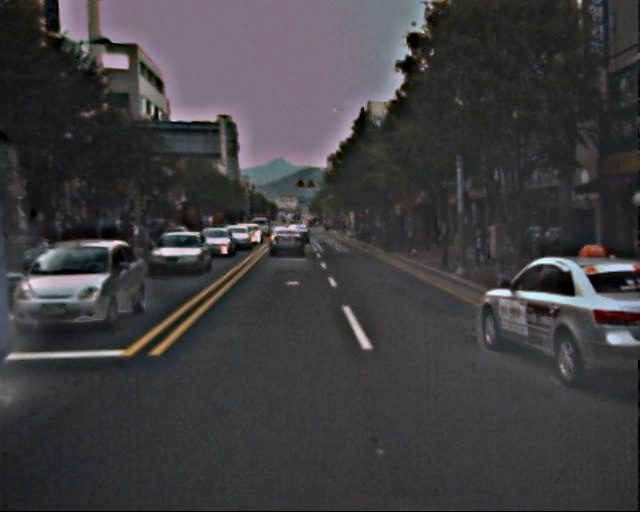person: (472, 225, 491, 271), (521, 223, 535, 258), (537, 224, 551, 258)
